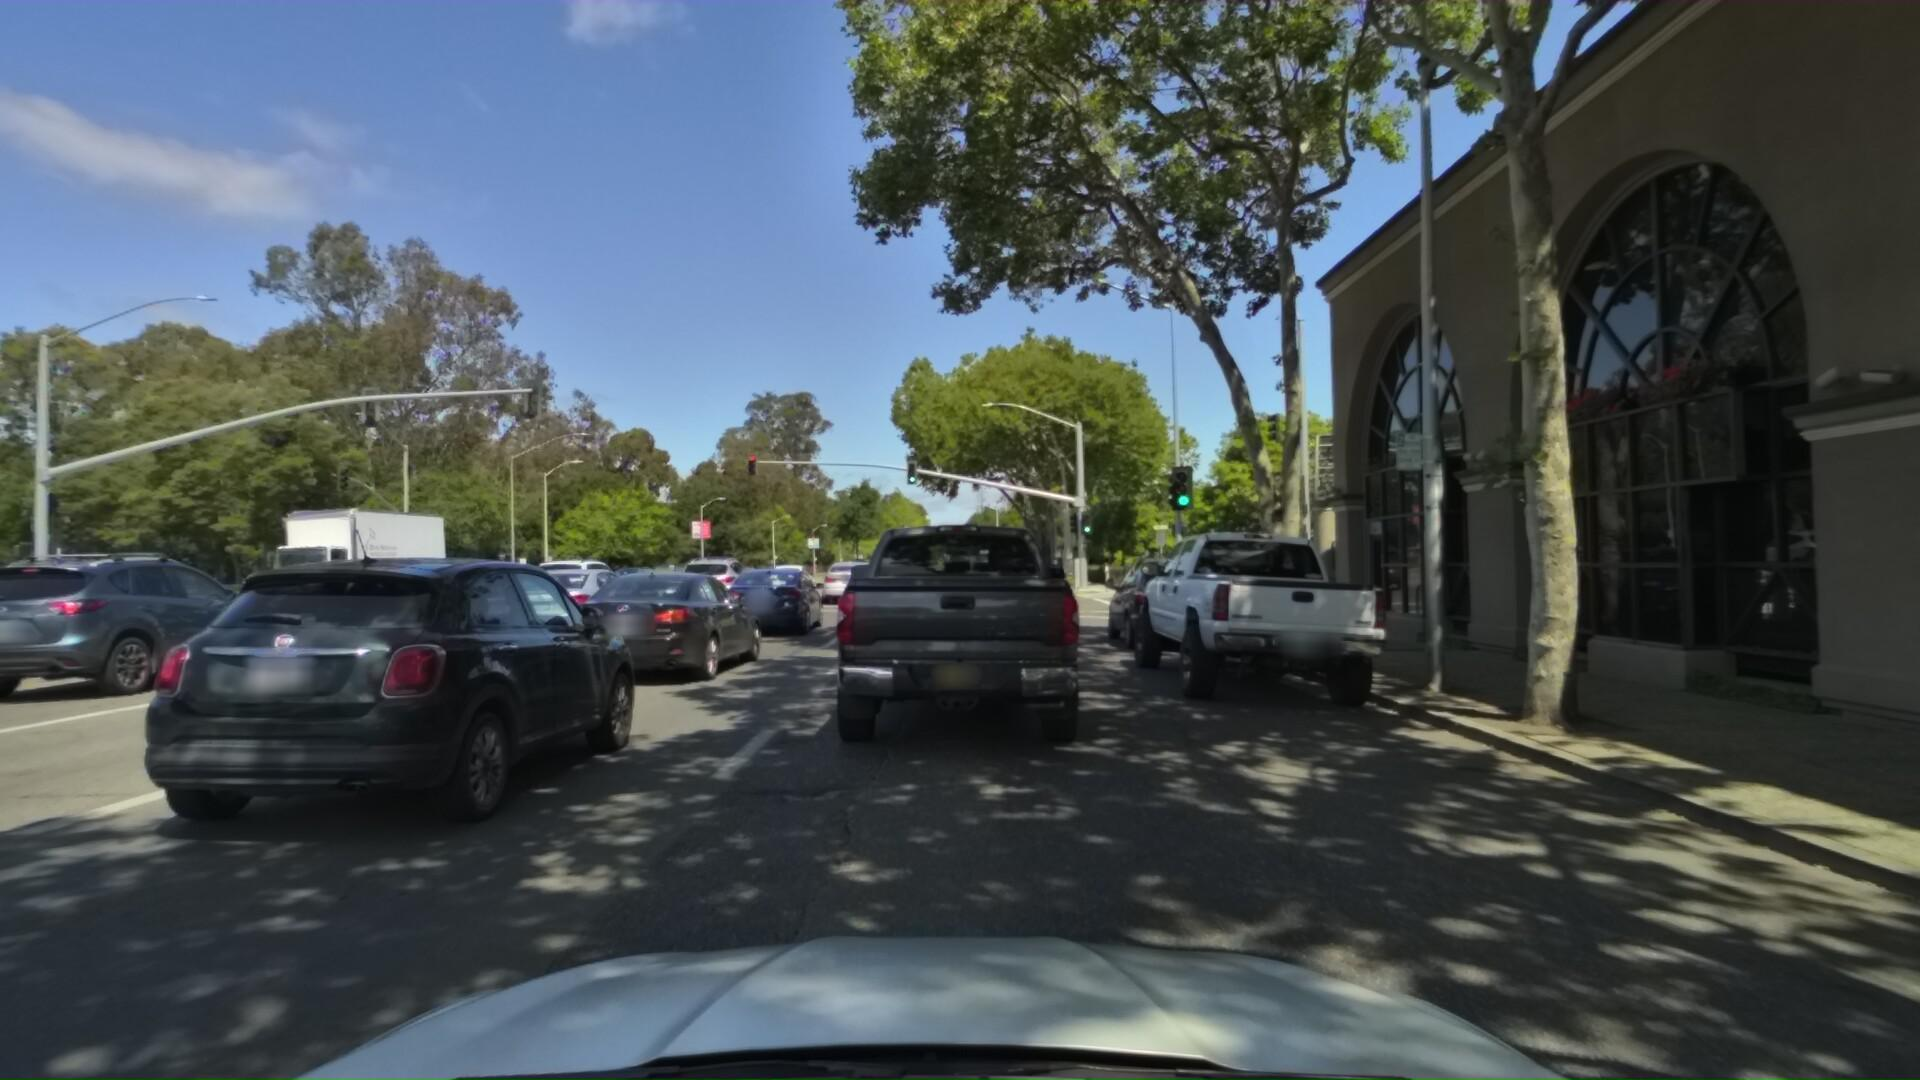car: (102, 524, 662, 876), (810, 460, 1104, 786), (1116, 509, 1408, 713), (549, 558, 771, 695), (1089, 542, 1247, 651), (944, 541, 1062, 657), (531, 555, 675, 636), (715, 558, 831, 642), (518, 541, 644, 609), (678, 535, 757, 597), (822, 555, 881, 607), (766, 555, 816, 589)
truck: (219, 491, 454, 617)
